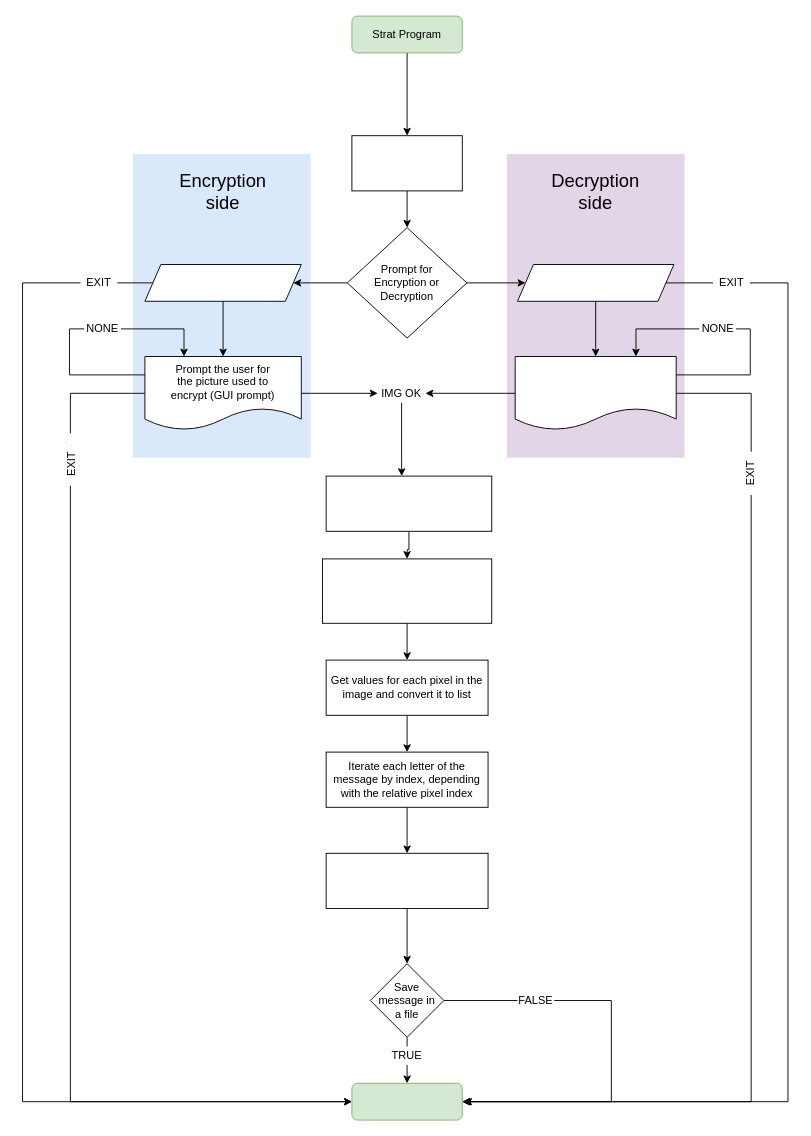
This 811x1136 diagram has some shape labels left out. The centre of each missing label's shape, as x and y in pixels:
Create a string again and print the message encrypted /decrypred: the point at 406,880
End Program: the point at 406,1101
Please enter a mesage to decrypt: the point at 595,282
Please enter a mesage to encrypt: the point at 222,282
Prompt the user for the picture used to decrypt (GUI prompt): the point at 595,393
Square crop, pixelate (max mosaic 64x64) and save the picture.: the point at 407,590
Store message and image data: the point at 408,503
Title and program description: the point at 406,163
